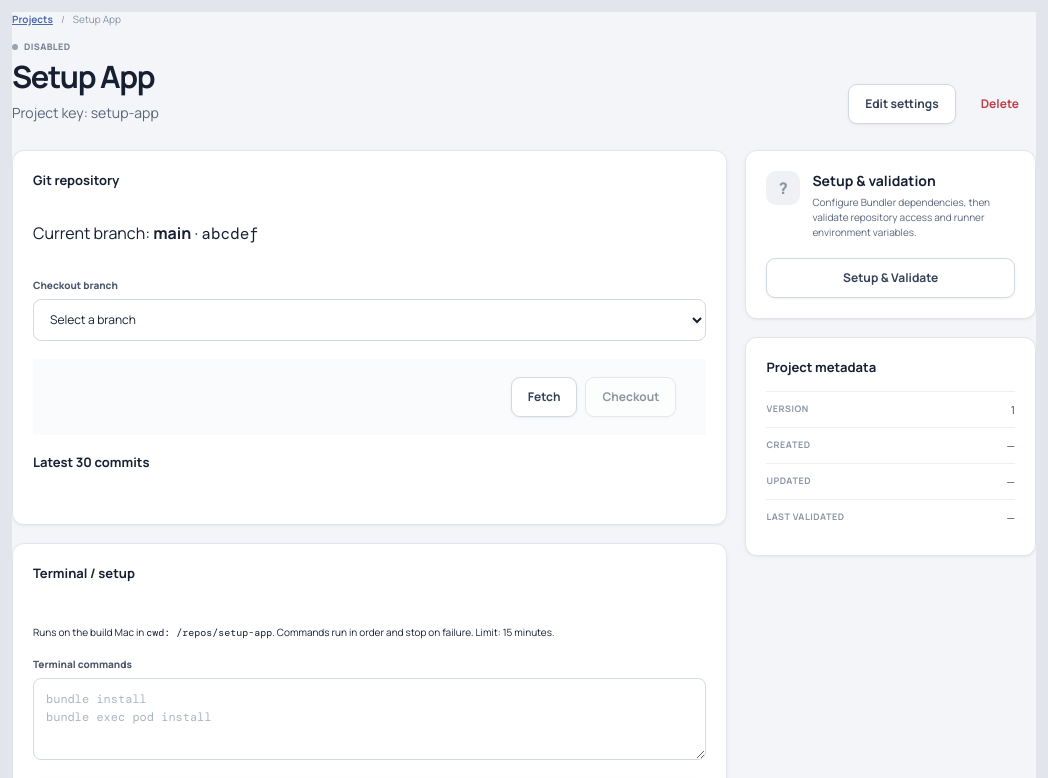
Test: ProjectDetailPage Setup & Validate › runs setup, updates validation state, and reports installed dependencies
This screenshot has width=1048, height=778.
What coordinates should you click on to do the following:
click the button "Setup & Validate"
I would click on:
 (891, 278)
Its box is x1=766 y1=258 x2=1015 y2=298.
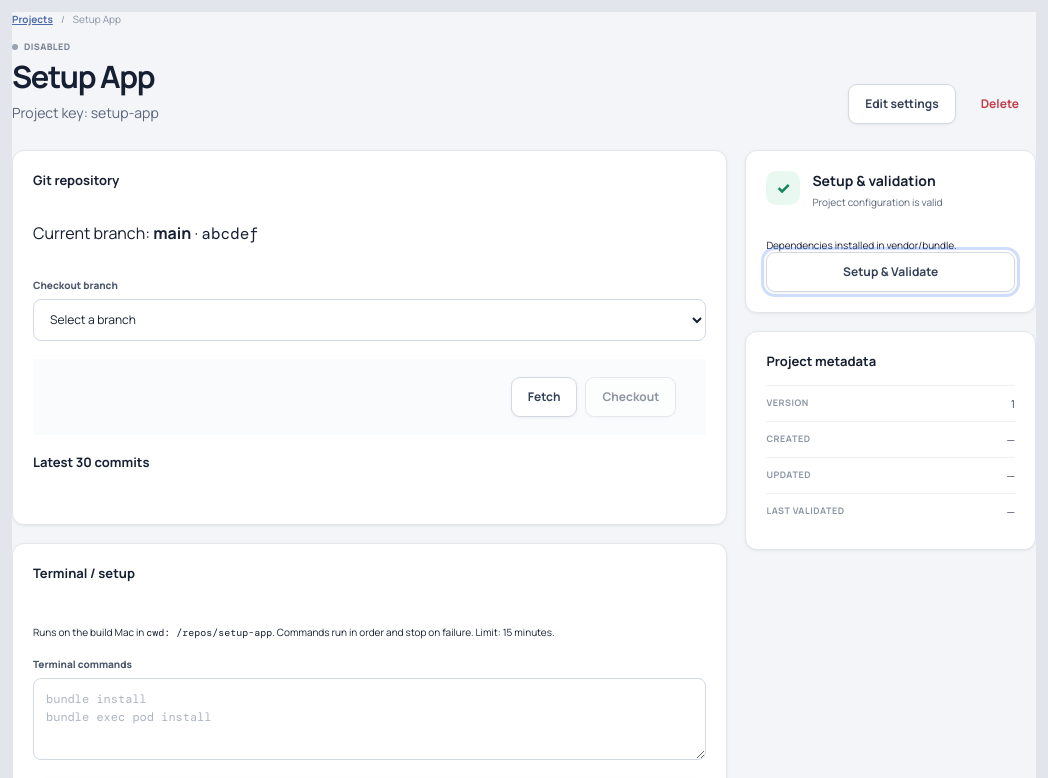
Expected: the text "Dependencies installed in vendor/bundle." is shown, x1=766 y1=238 x2=956 y2=252
Expected: the text "Project configuration is valid" is shown, x1=812 y1=195 x2=943 y2=210
